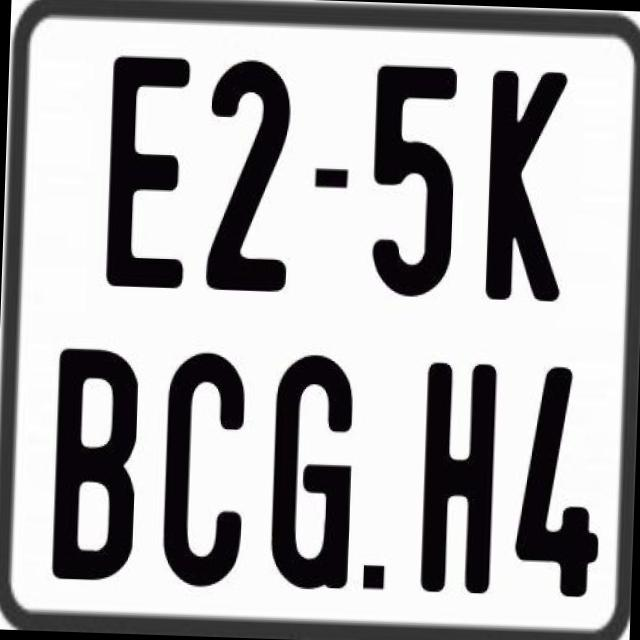2: (204, 58, 294, 295)
4: (512, 361, 606, 598)
5: (368, 59, 458, 299)
B: (51, 348, 146, 588)
C: (162, 352, 250, 590)
E: (104, 50, 194, 285)
G: (270, 349, 356, 590)
H: (418, 359, 496, 590)
K: (485, 68, 571, 308)
